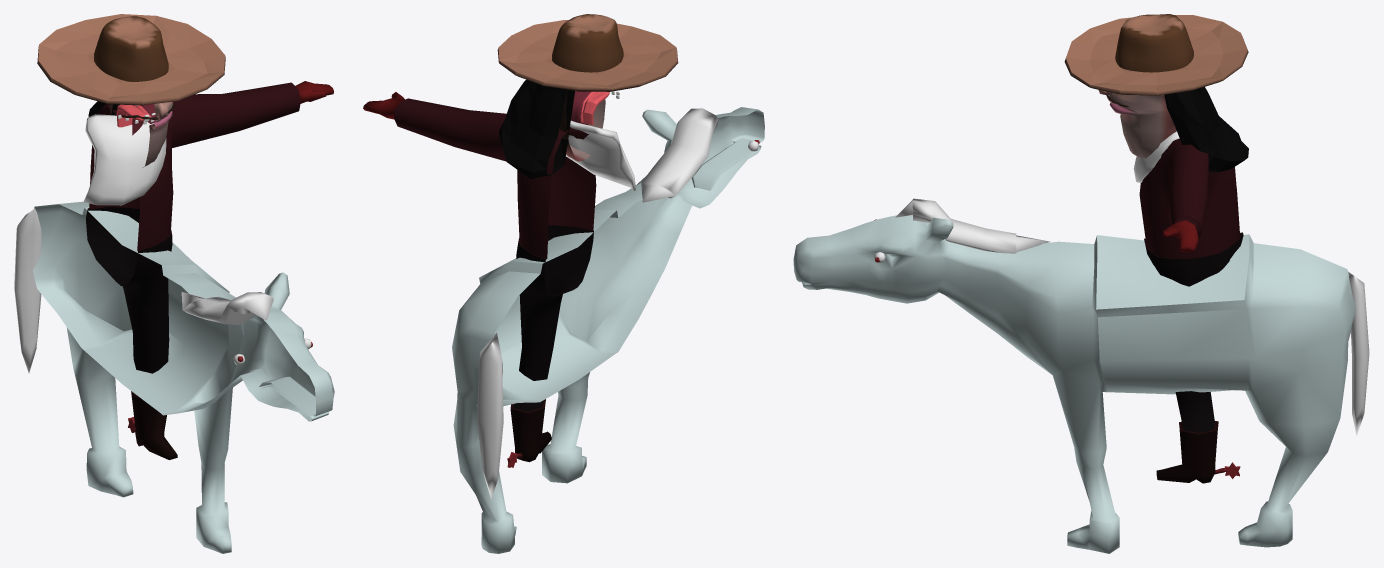
Rendered from cowbub_v4.dae.
3 views of the same model, side by side, from view 1: azimuth 30°, elevation 25°; view 2: azimuth 150°, elevation 25°; view 3: azimuth 270°, elevation 25° (orthographic). The views are drawn at different scales.
Parts seen in each view (by area): view 1: horse, body, hat, hankerchief, Cube, Cube.005, head, tongue; view 2: horse, body, hat, hair, Cube.005, Cube, hankerchief, head, tongue; view 3: horse, body, hat, hair, head, Cube.005, Cube, hankerchief.
Part boxes in pixels (box(x1,y1,x2,y2)): horse: box(33, 201, 334, 553); body: box(86, 81, 333, 459); hat: box(37, 14, 225, 105); hankerchief: box(83, 114, 166, 205); Cube: box(14, 208, 41, 373); Cube.005: box(181, 292, 273, 324); head: box(109, 101, 172, 167); tongue: box(116, 104, 151, 127); horse: box(452, 107, 764, 553); body: box(363, 92, 596, 467); hat: box(497, 14, 678, 91); hair: box(499, 79, 574, 179); Cube.005: box(641, 108, 718, 202); Cube: box(477, 332, 503, 499); hankerchief: box(566, 120, 635, 190); head: box(559, 90, 605, 161); tongue: box(580, 91, 609, 124); horse: box(793, 215, 1355, 553); body: box(1139, 138, 1243, 483); hat: box(1064, 14, 1248, 95); hair: box(1164, 87, 1248, 172); head: box(1098, 89, 1176, 158); Cube.005: box(895, 198, 1050, 253); Cube: box(1348, 272, 1369, 435); hankerchief: box(1133, 131, 1179, 183).
Bounding box in the file's own units: 5.79 × 9.91 × 9.54.
